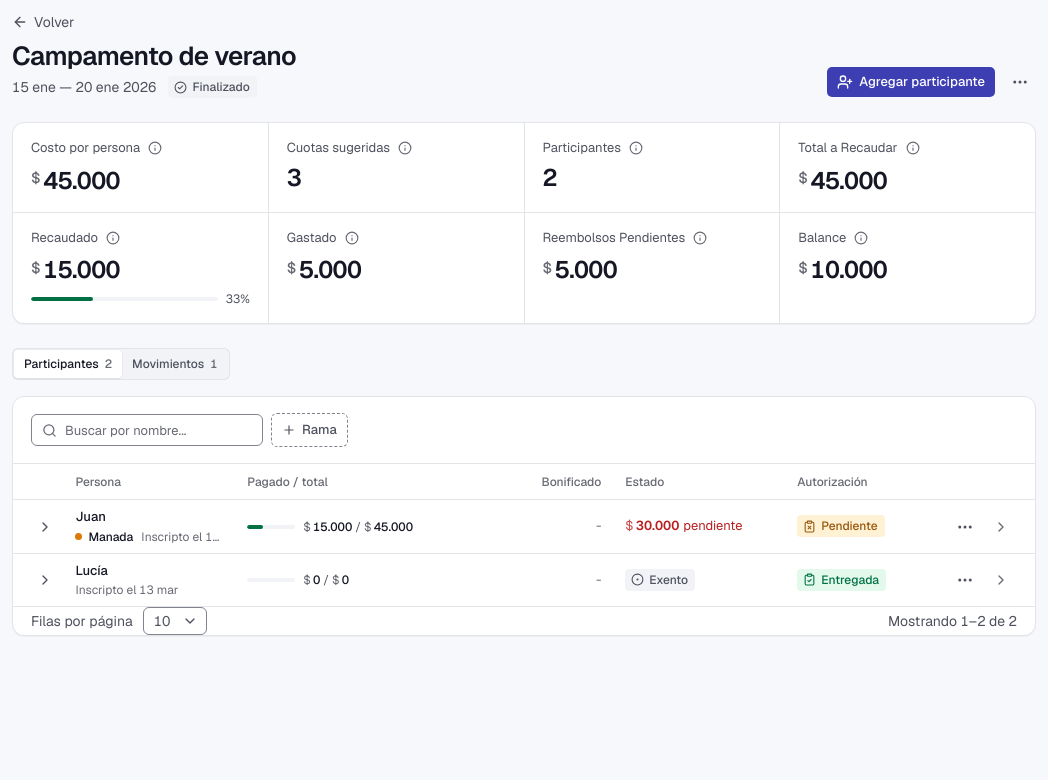
Test case: CampamentoDetailView › la fila se expande y muestra los pagos con su eliminar
The width and height of the screenshot is (1048, 780).
Click the button named "Ver pagos de Juan" at (45, 527), box 31,513 -> 59,541
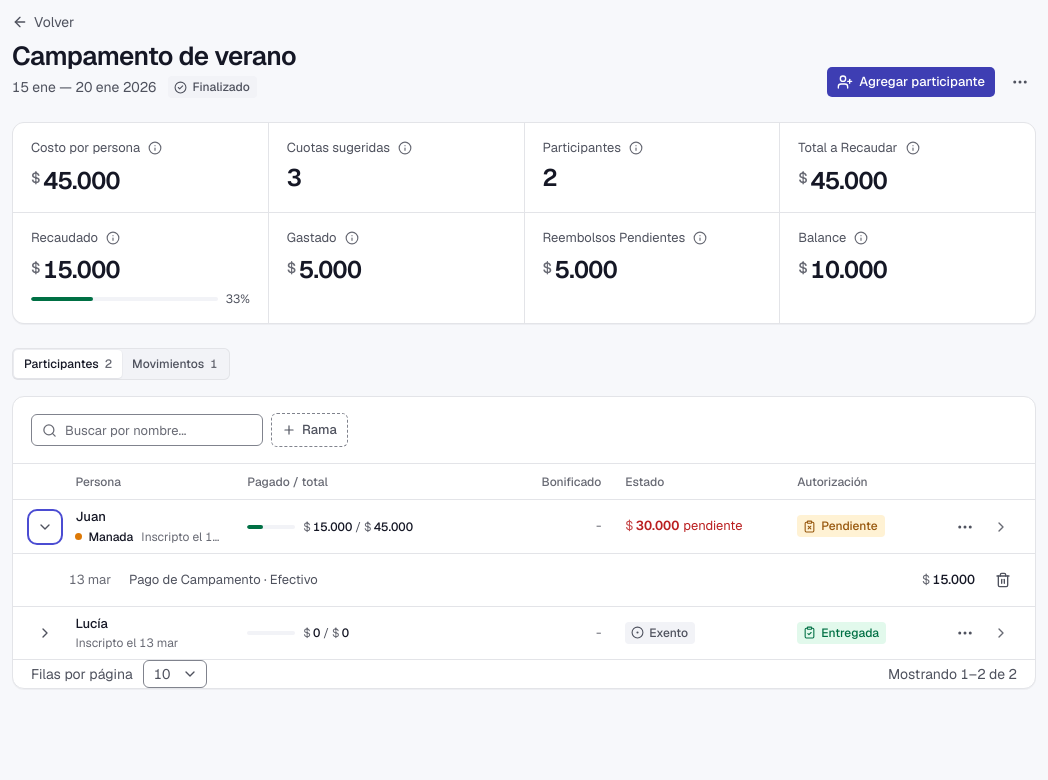
Check: the button named "Eliminar pago" is shown, box 987,564 -> 1019,596
